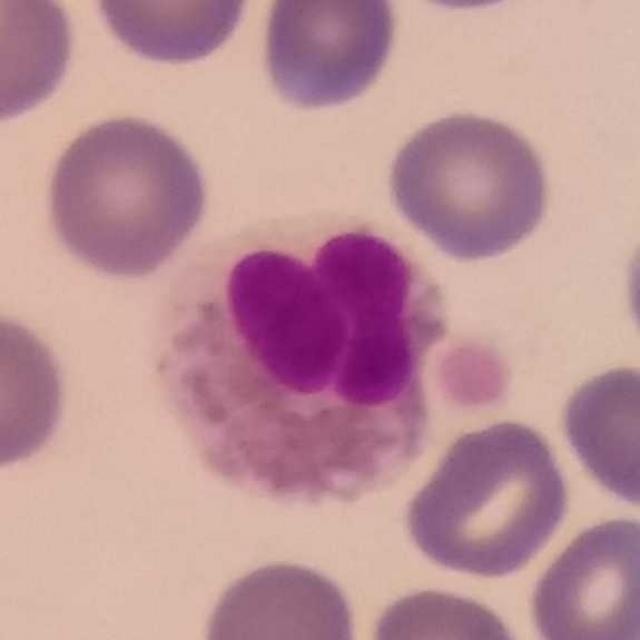Eosinophil: (163, 208, 443, 507)
Platelets: (423, 330, 521, 420)
RBC: (38, 108, 215, 282), (400, 413, 574, 582), (380, 104, 558, 264), (252, 0, 404, 116), (524, 511, 640, 640), (195, 553, 365, 640), (0, 302, 76, 478), (555, 358, 640, 514), (85, 0, 259, 70), (0, 1, 81, 128), (361, 581, 533, 640), (616, 200, 640, 372), (415, 0, 519, 15)
